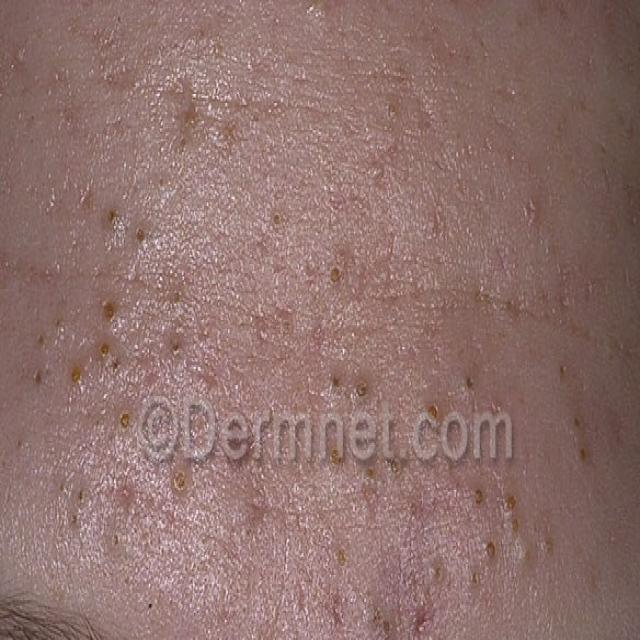Acne: (0, 52, 544, 640)
